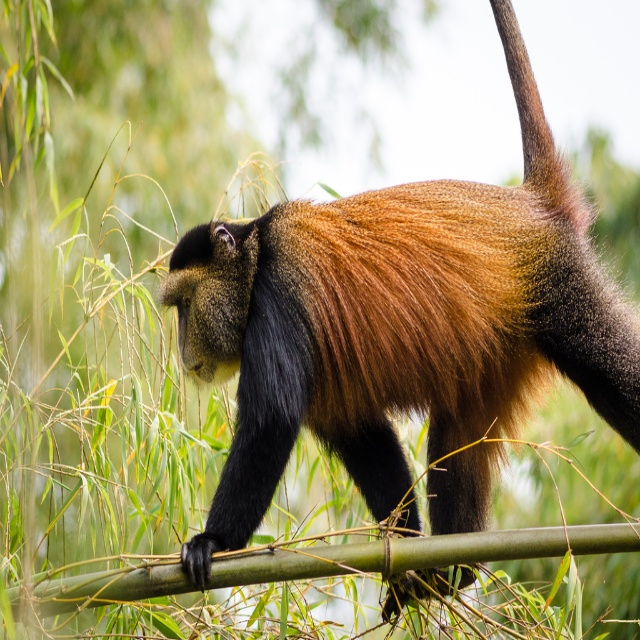Monkey: (162, 0, 640, 619)
